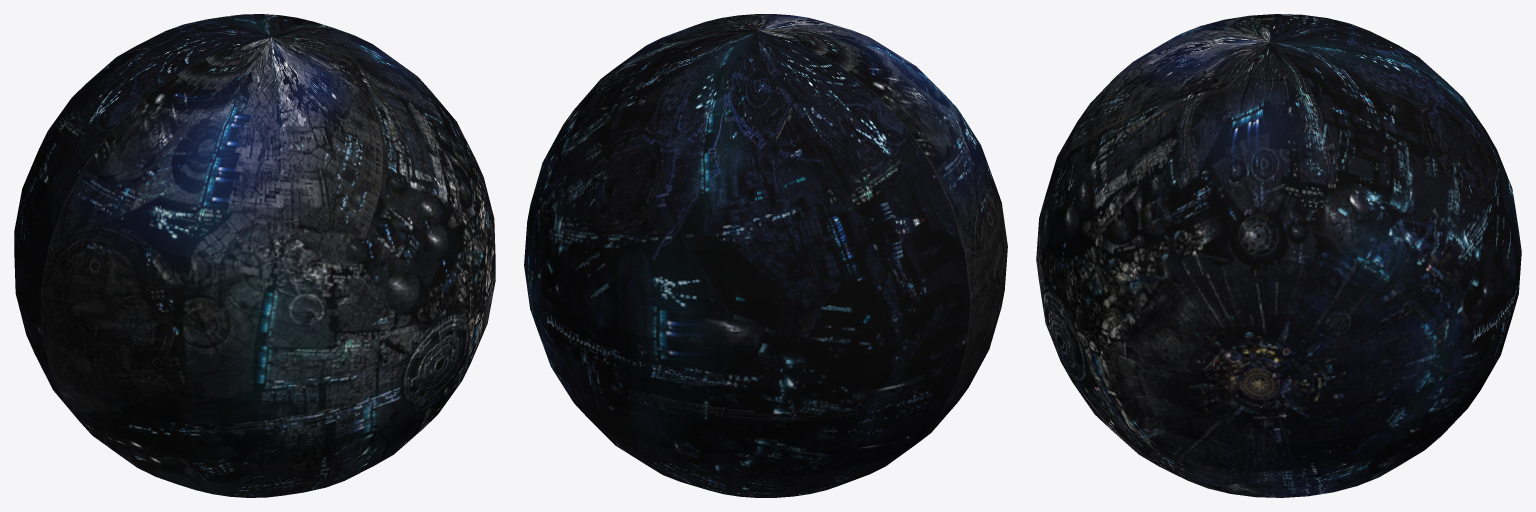
File: statsmain.glb
The picture shows the model from 3 angles, left to right: view 1: azimuth 30°, elevation 25°; view 2: azimuth 150°, elevation 25°; view 3: azimuth 270°, elevation 25°; orthographic projection.
Visible parts, largest first — view 1: Sphere; view 2: Sphere; view 3: Sphere.
Boxes of the visible parts, bbox=[...] form: Sphere: bbox=[14, 14, 495, 497]; Sphere: bbox=[524, 14, 1007, 497]; Sphere: bbox=[1036, 14, 1521, 497].
Size of the model in its own units: 2 by 2 by 2.
Materials: 1 (1 with a texture image).
